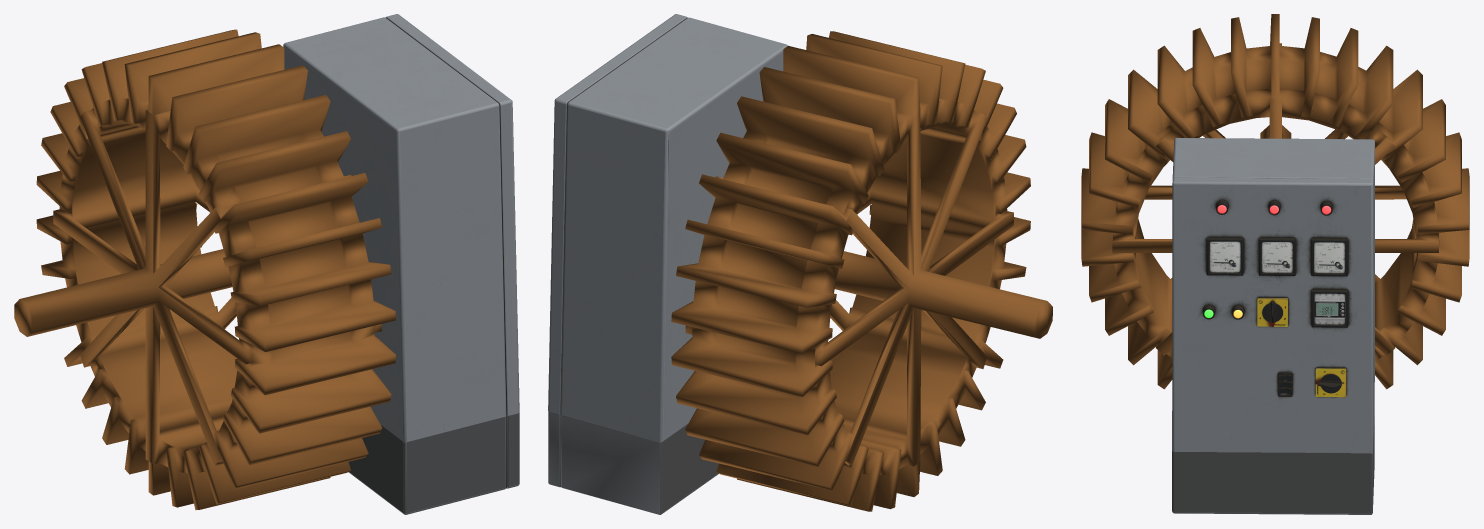
The model's file is wheel_gen_left.glb.
3 views of the same model, side by side, from view 1: azimuth 30°, elevation 25°; view 2: azimuth 150°, elevation 25°; view 3: azimuth 270°, elevation 25° (orthographic). The views are drawn at different scales.
Parts seen in each view (by area): view 1: Water wheel_2, Null_1__0; view 2: Water wheel_2, Null_1__0; view 3: Null_1__0, Water wheel_2.
Boxes of the visible parts, x1=… form: Water wheel_2: x1=14, y1=29, x2=395, y2=510; Null_1__0: x1=283, y1=14, x2=519, y2=514; Water wheel_2: x1=671, y1=31, x2=1052, y2=511; Null_1__0: x1=548, y1=14, x2=787, y2=514; Null_1__0: x1=1172, y1=138, x2=1374, y2=514; Water wheel_2: x1=1081, y1=14, x2=1469, y2=389.
Size of the model in its own units: 4.38 by 4.12 by 3.86.
Materials: 2 (2 with a texture image).
